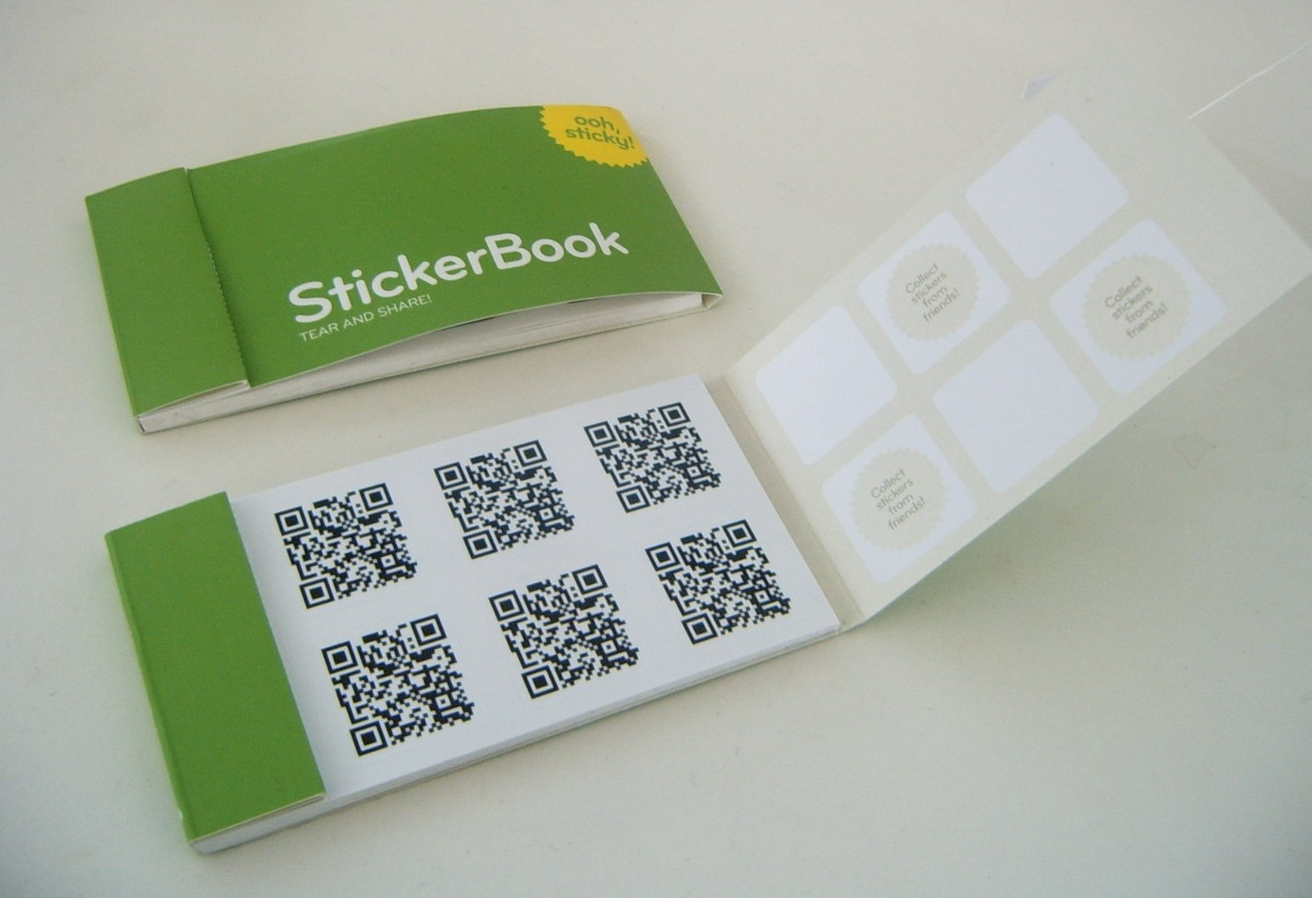QR-CODE: (322, 614, 474, 757), (489, 564, 639, 699), (645, 521, 791, 645), (275, 482, 417, 609), (434, 440, 575, 560), (583, 402, 721, 513)
